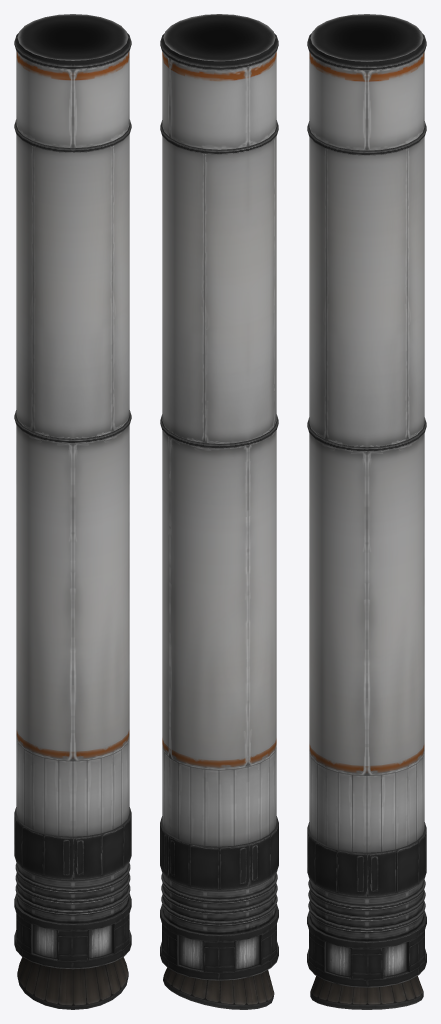
File: Titan_SRB_3seg.dae
3 renders of one model, left to right at view 1: azimuth 90°, elevation 25°; view 2: azimuth 210°, elevation 25°; view 3: azimuth 270°, elevation 25°, orthographic.
Visible parts, largest first — view 1: Booster_Segment2, Booster_Segment, BellCasing, Booster_Segment1, Cap, Nozzle, Booster_Segment_Rim_ncl1_1, Booster_Segment_Rim, Booster_Segment_Rim1, Booster_Segment_Rim3, Booster_Segment_Rim2; view 2: Booster_Segment2, Booster_Segment, BellCasing, Booster_Segment1, Cap, Nozzle, Booster_Segment_Rim_ncl1_1, Booster_Segment_Rim, Booster_Segment_Rim3, Booster_Segment_Rim2, Booster_Segment_Rim1; view 3: Booster_Segment2, Booster_Segment, BellCasing, Booster_Segment1, Cap, Nozzle, Booster_Segment_Rim_ncl1_1, Booster_Segment_Rim, Booster_Segment_Rim1, Booster_Segment_Rim2, Booster_Segment_Rim3.
Part boxes in pixels (box(x1,y1,x2,y2)): Booster_Segment2: box(16, 425, 129, 836); Booster_Segment: box(14, 119, 131, 438); BellCasing: box(14, 807, 131, 969); Booster_Segment1: box(16, 51, 129, 148); Cap: box(17, 14, 128, 64); Nozzle: box(17, 957, 128, 1009); Booster_Segment_Rim_ncl1_1: box(14, 33, 131, 69); Booster_Segment_Rim: box(14, 410, 131, 443); Booster_Segment_Rim1: box(15, 862, 130, 892); Booster_Segment_Rim3: box(15, 884, 130, 914); Booster_Segment_Rim2: box(15, 873, 130, 903); Booster_Segment2: box(162, 430, 276, 846); Booster_Segment: box(160, 120, 278, 443); BellCasing: box(160, 816, 278, 980); Booster_Segment1: box(162, 52, 276, 149); Cap: box(163, 14, 275, 64); Nozzle: box(163, 967, 274, 1009); Booster_Segment_Rim_ncl1_1: box(160, 33, 278, 70); Booster_Segment_Rim: box(160, 414, 278, 448); Booster_Segment_Rim3: box(161, 894, 277, 925); Booster_Segment_Rim2: box(161, 883, 277, 914); Booster_Segment_Rim1: box(161, 873, 277, 903); Booster_Segment2: box(309, 433, 424, 852); Booster_Segment: box(307, 121, 426, 447); BellCasing: box(307, 822, 426, 987); Booster_Segment1: box(309, 52, 424, 150); Cap: box(310, 14, 423, 65); Nozzle: box(310, 976, 423, 1009); Booster_Segment_Rim_ncl1_1: box(307, 33, 426, 70); Booster_Segment_Rim: box(307, 417, 426, 451); Booster_Segment_Rim1: box(308, 879, 425, 909); Booster_Segment_Rim2: box(308, 890, 425, 920); Booster_Segment_Rim3: box(308, 901, 425, 932).
Size of the model in its own units: 1.98 by 17.7 by 1.98.
